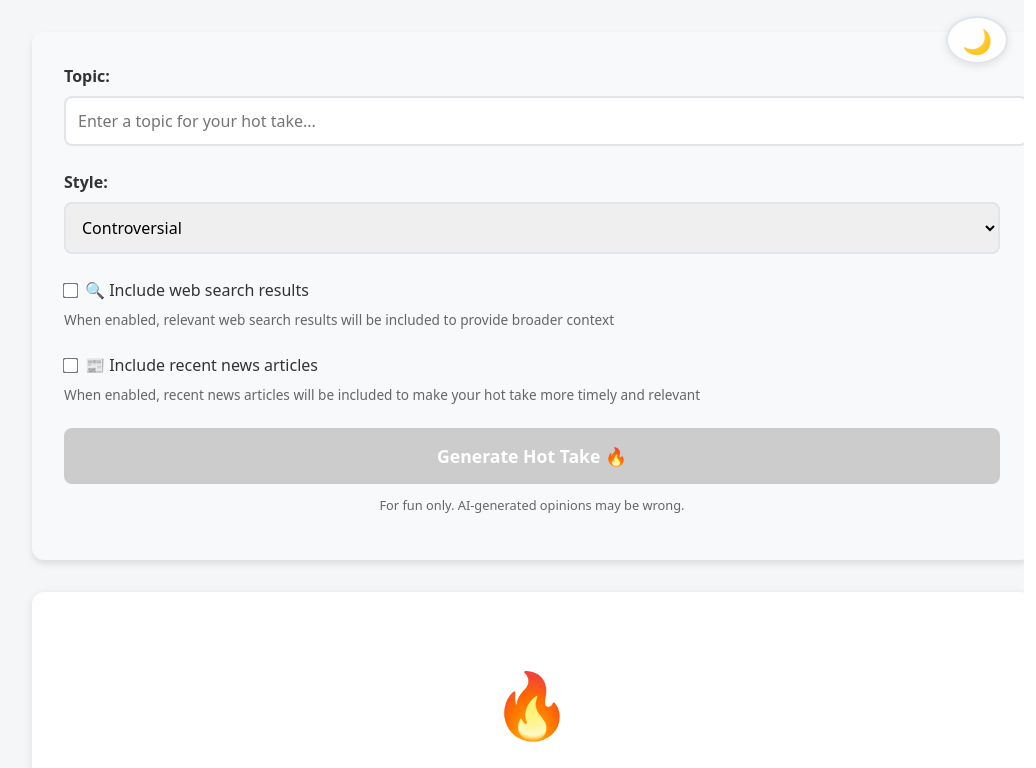
Test case: HotTakeGenerator › shows loading state when generating hot take
Type "AI in education" into the field labelled "Topic:" at [544, 121], box [64, 96, 1024, 146]
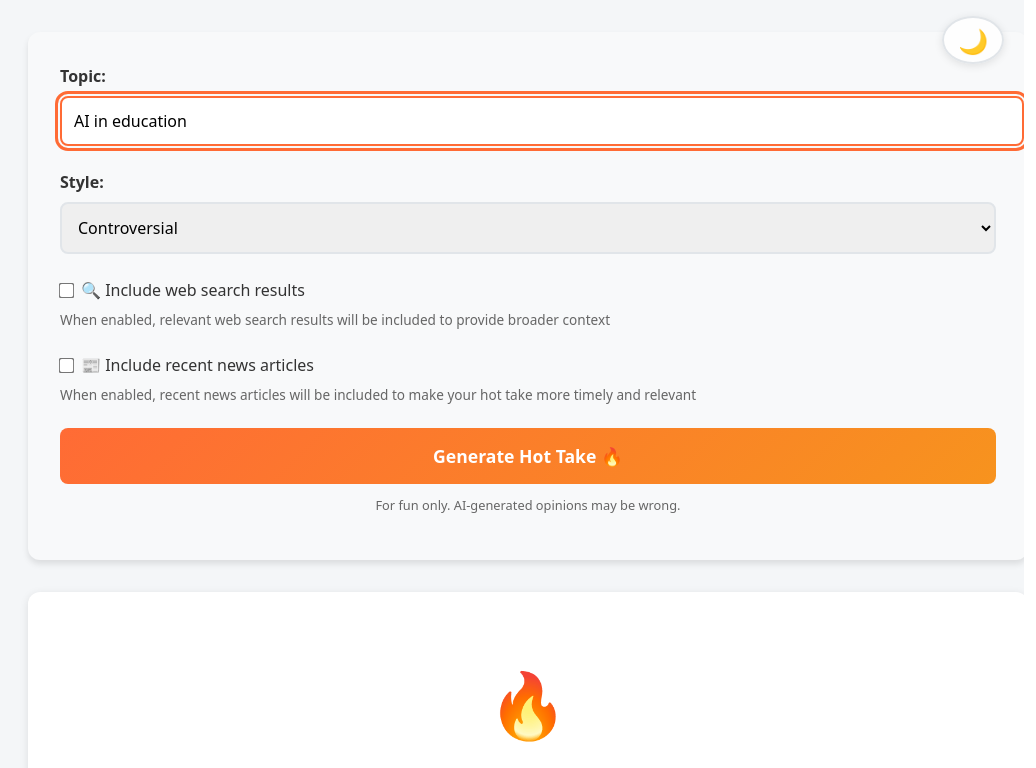
Click the button "Generate Hot Take 🔥" at [528, 456], box [60, 428, 996, 484]
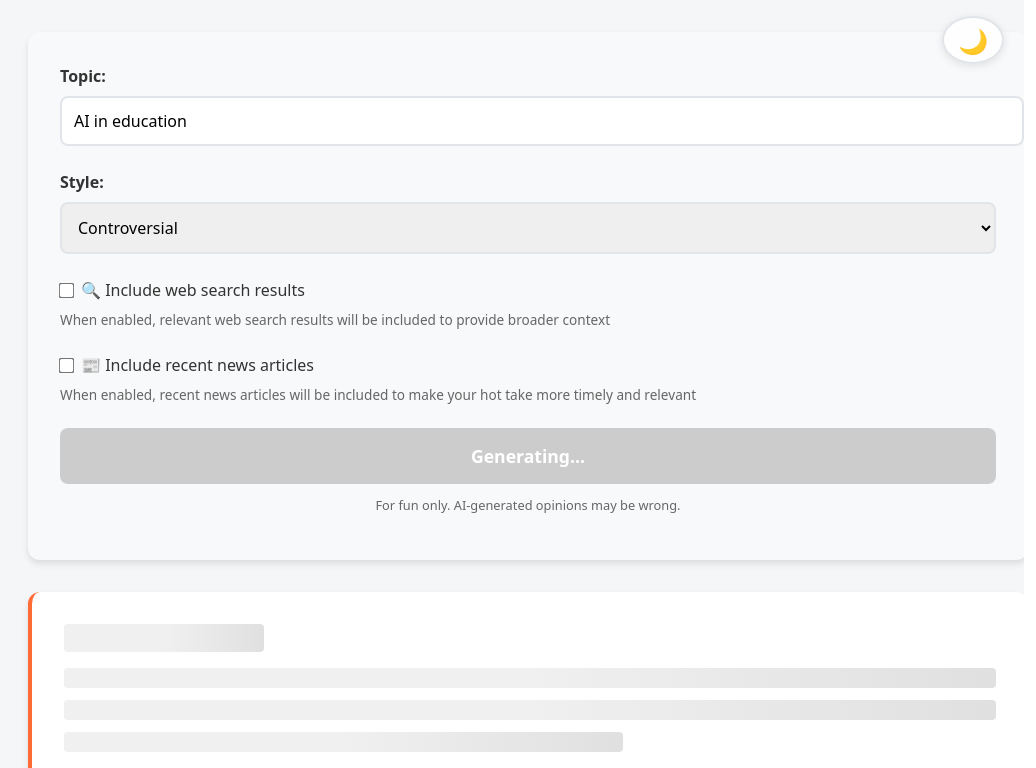
Now the button "Generating..." is disabled, box [60, 428, 996, 484]
